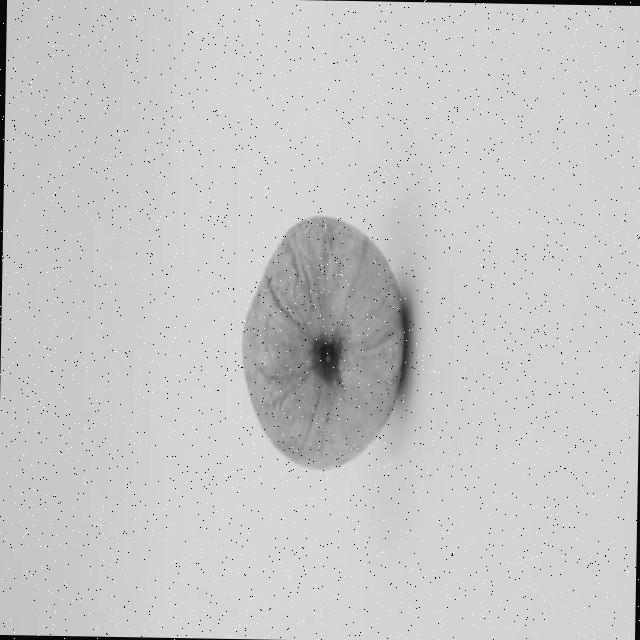overripe: (231, 212, 408, 477)
